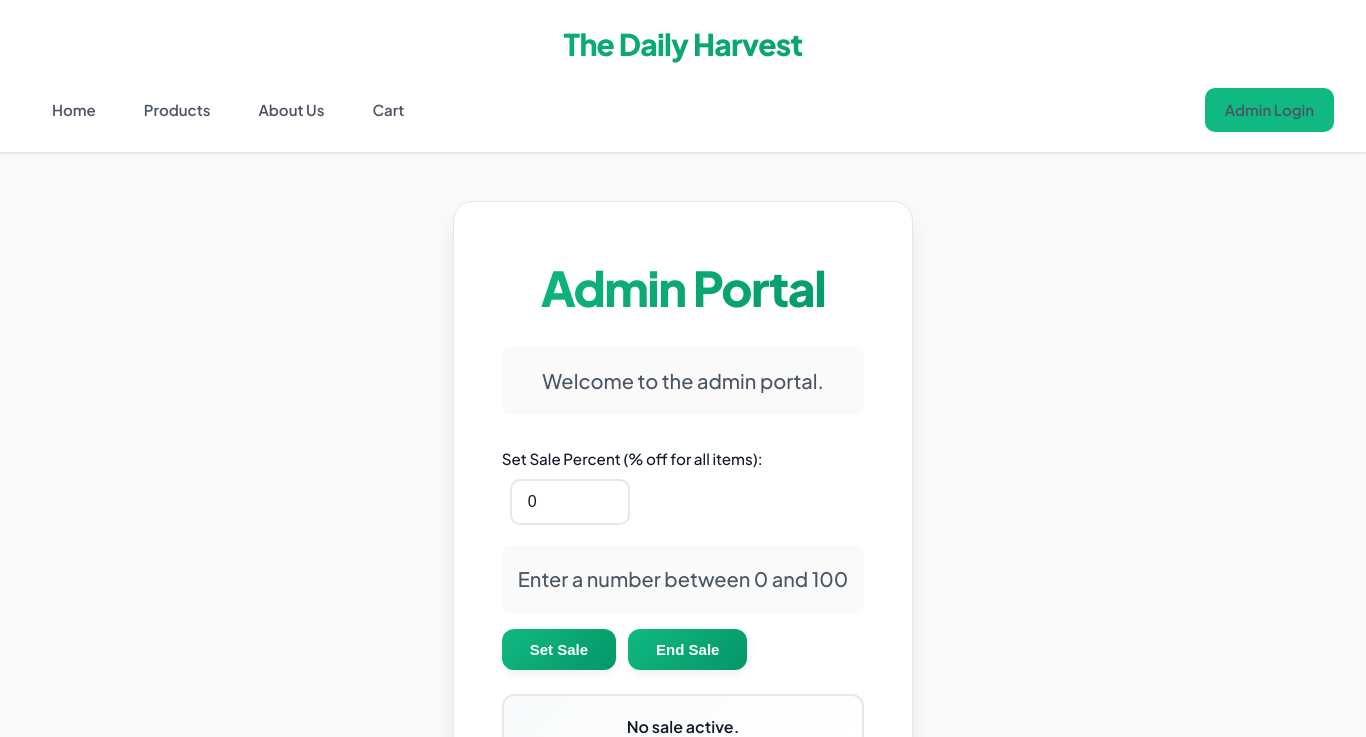
Test case: AdminPage › should show an error message for a discount over 100
Replace the text in the number field labelled "Set Sale Percent (% off for all items):" with "110": [570, 502] box [510,479,630,525]
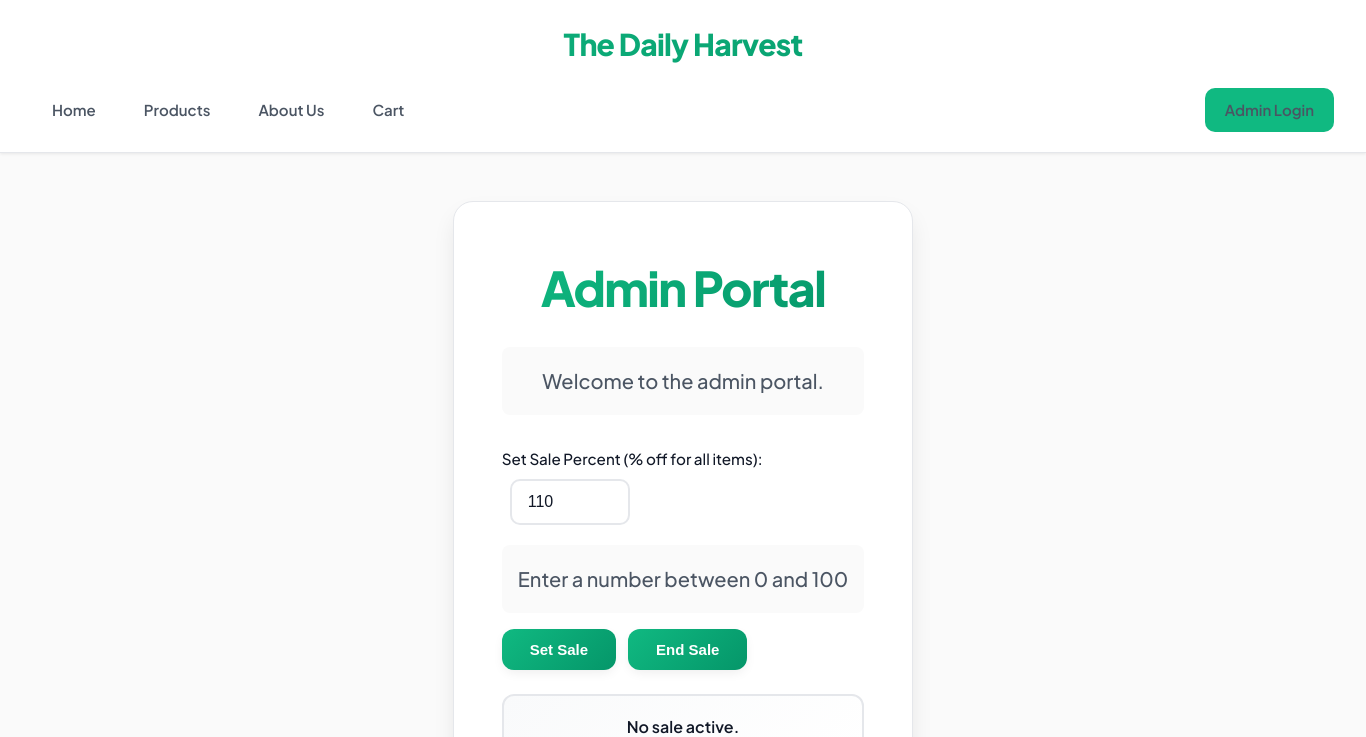
Click the button with aria-label "Apply sale percentage": [559, 650] box [502,629,616,670]
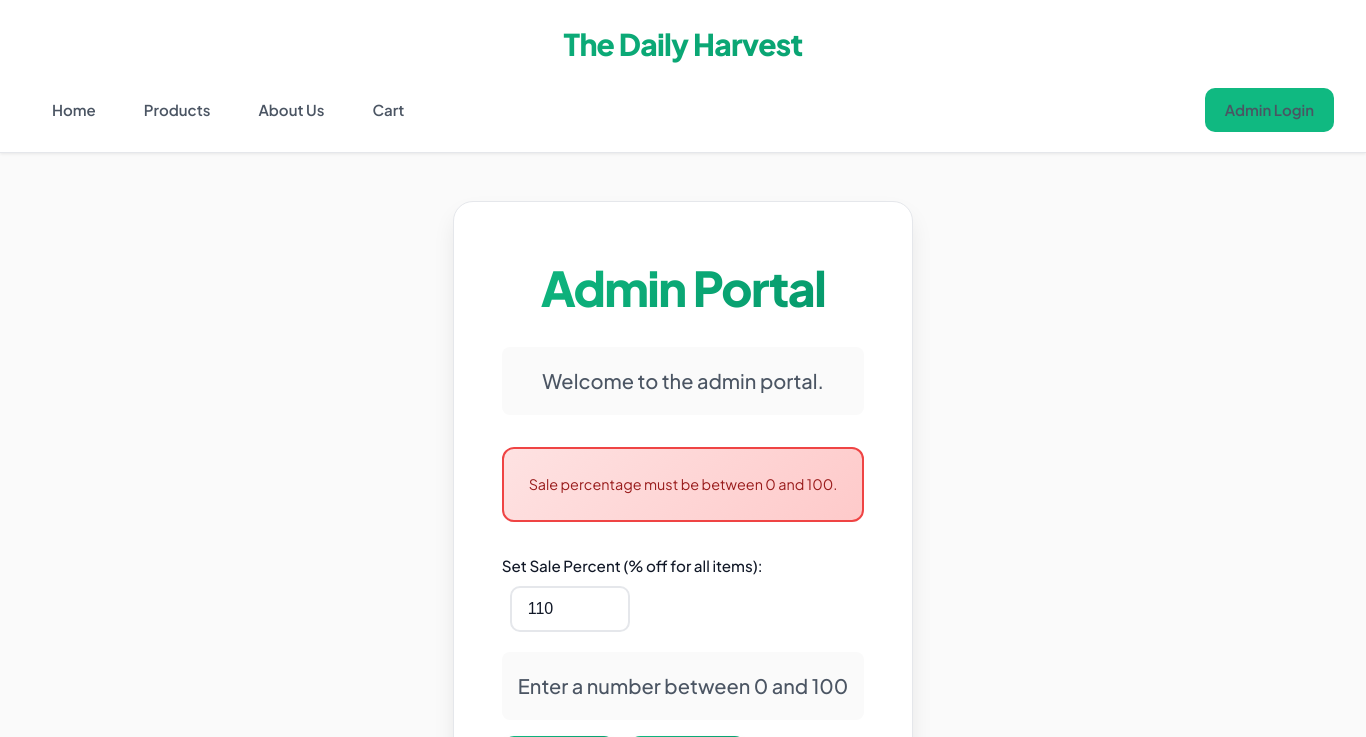
Check: the text "Sale percentage must be between 0 and 100." is shown, box [502,447,864,522]
